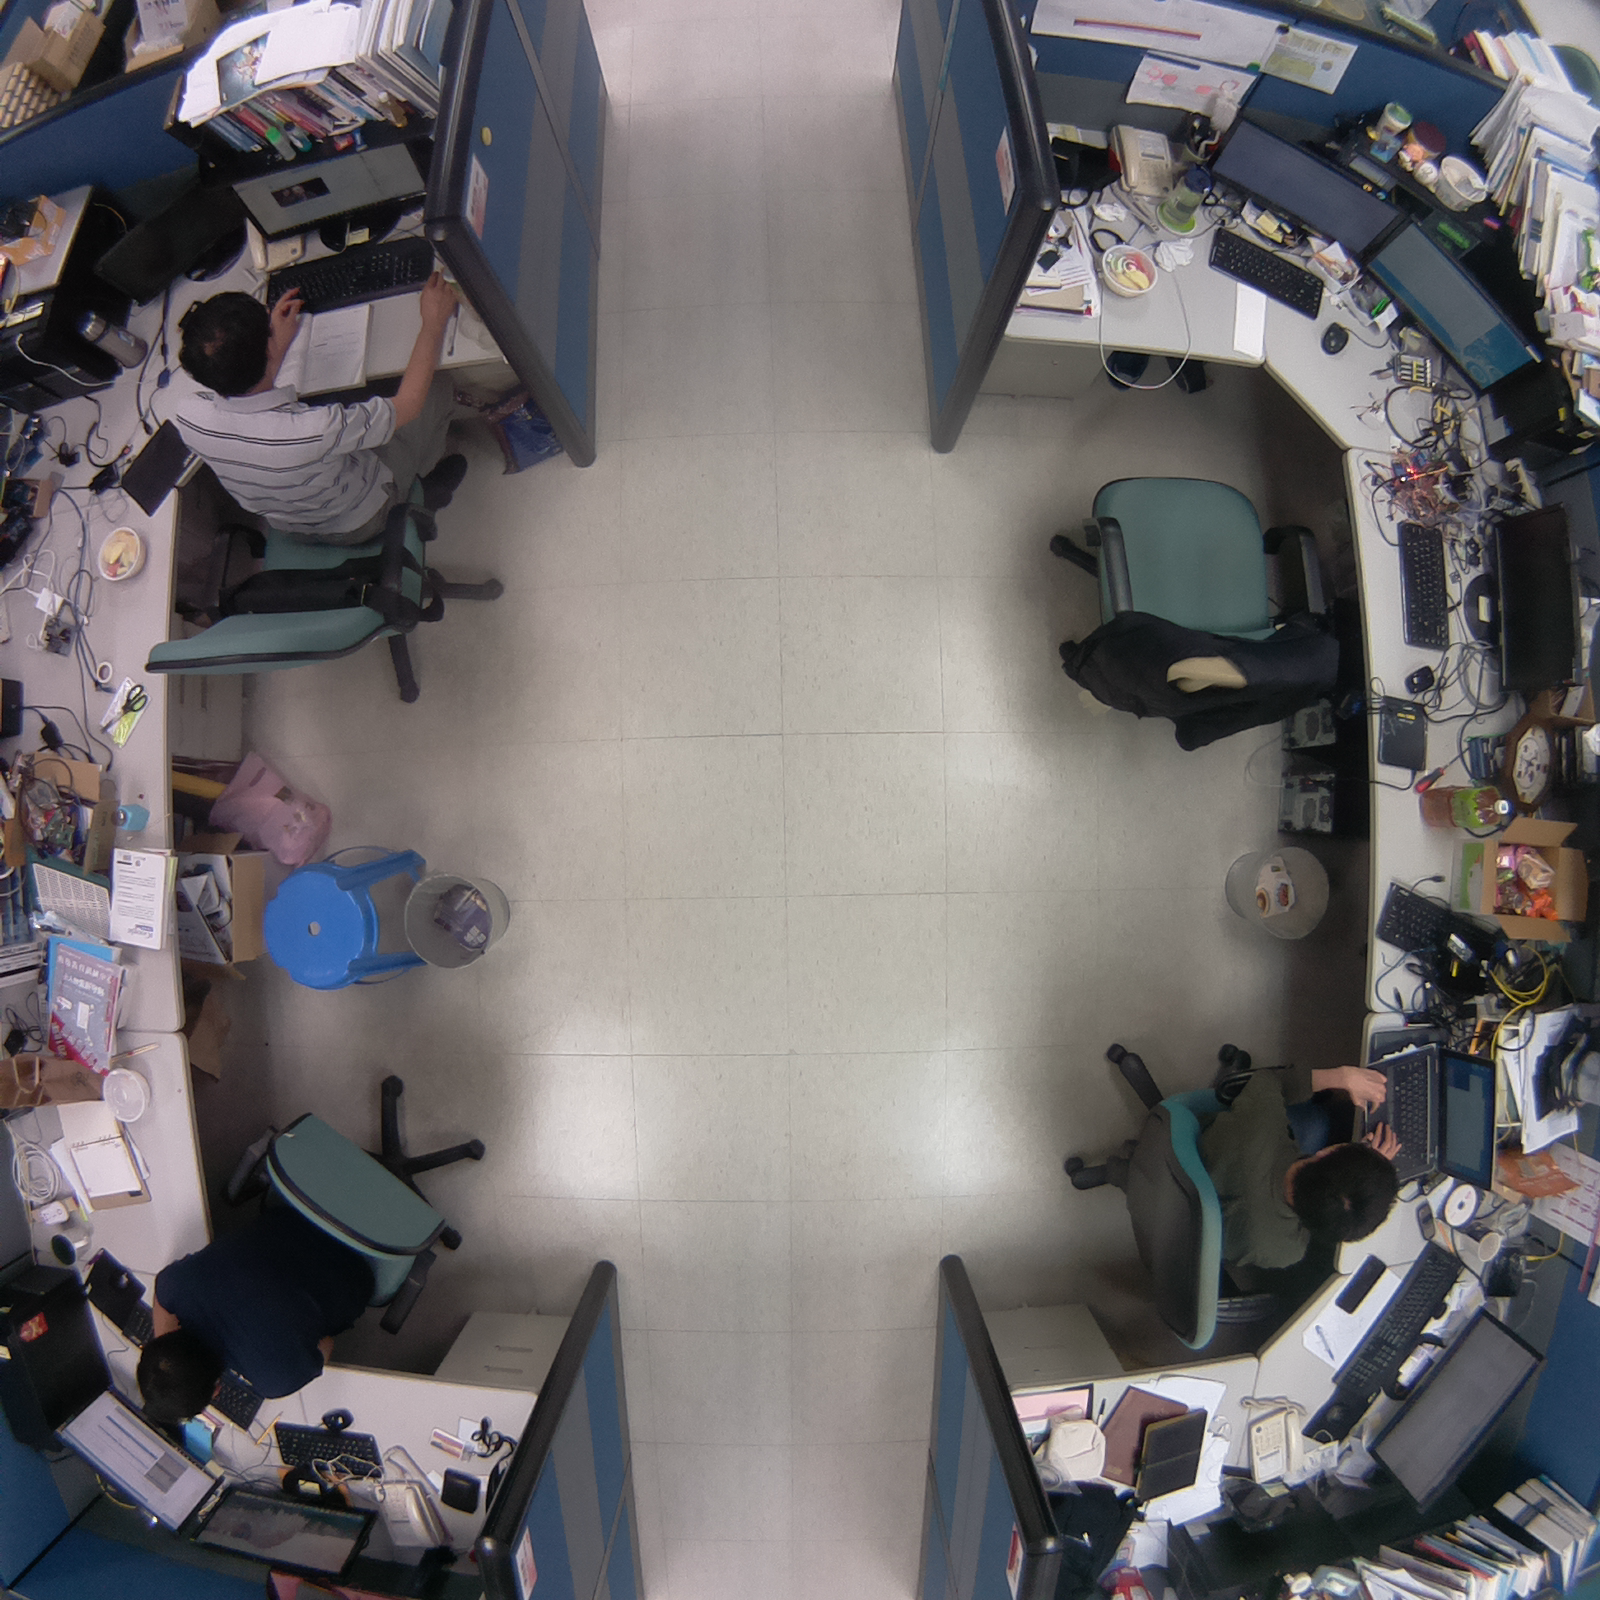chair: (1019, 447, 1365, 768)
head: (1287, 1136, 1406, 1246), (176, 285, 283, 397), (129, 1329, 236, 1429)
sitting: (135, 261, 517, 717), (107, 1037, 509, 1435), (1042, 1027, 1415, 1363)
